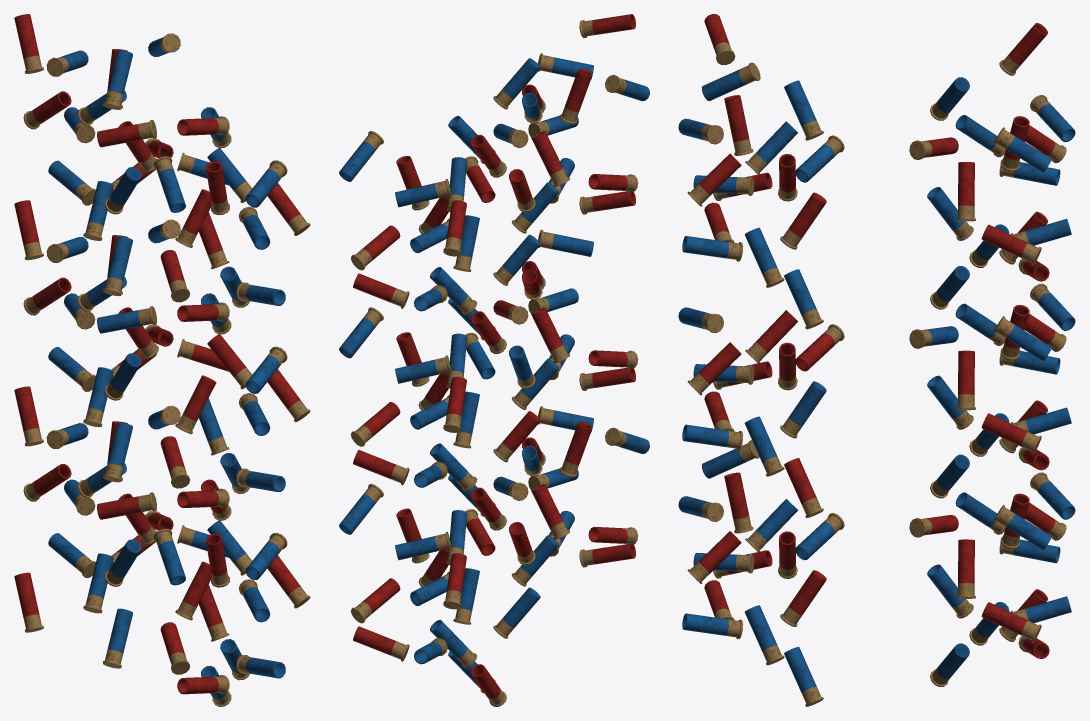
The model's file is shell waterfall2.glb.
The picture shows the model from 3 angles, left to right: view 1: azimuth 30°, elevation 25°; view 2: azimuth 150°, elevation 25°; view 3: azimuth 270°, elevation 25°; orthographic projection. The views are drawn at different scales.
Visible parts, largest first — view 1: segment3, segment1, segment2; view 2: segment3, segment1, segment2; view 3: segment3, segment1, segment2.
Boxes of the visible parts, x1,y1,x2,y2 form: segment3: (14, 386, 310, 706); segment1: (14, 14, 310, 307); segment2: (14, 200, 310, 493); segment3: (339, 367, 649, 706); segment1: (339, 14, 649, 314); segment2: (339, 191, 638, 491); segment3: (678, 391, 1075, 706); segment1: (678, 14, 1075, 287); segment2: (678, 202, 1075, 476).
Size of the model in its own units: 2.27 by 8.68 by 4.8.
3 materials, 3 textured.
